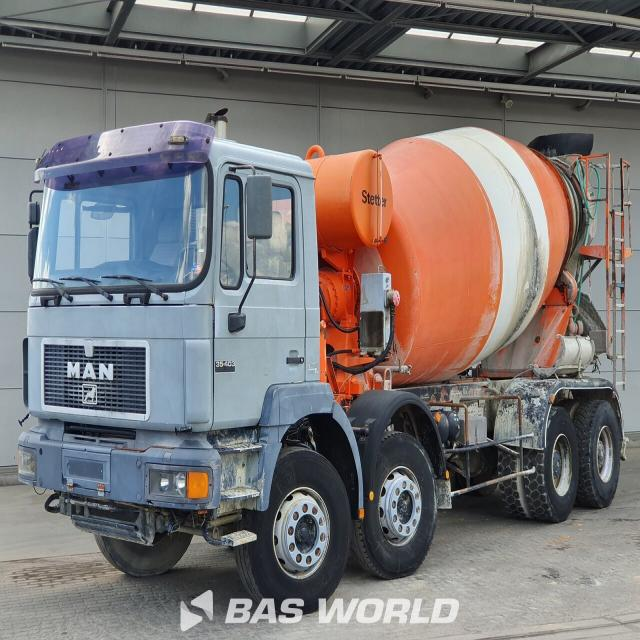Mixer Truck: (18, 121, 632, 614)
